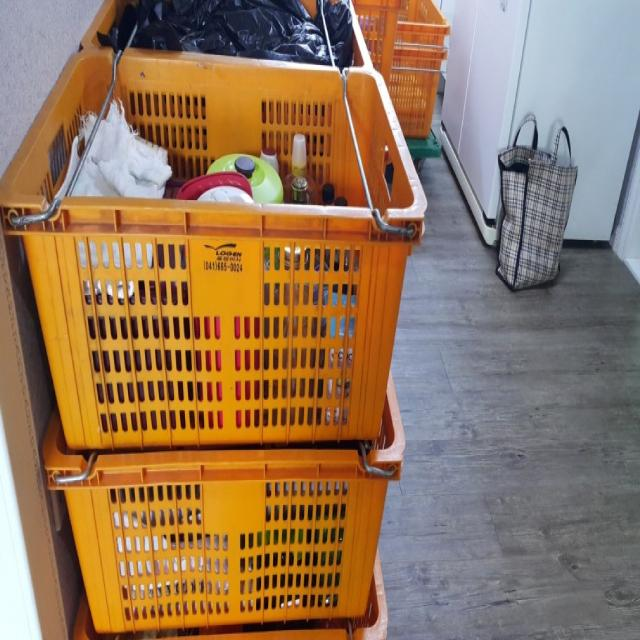basket: (0, 18, 420, 454), (40, 380, 417, 637), (68, 553, 391, 640), (327, 55, 439, 249)
